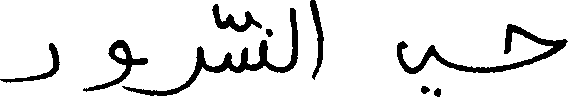ا: (307, 0, 322, 81)
ح: (504, 21, 566, 71)
ر: (129, 43, 203, 94), (0, 41, 58, 84)
س: (216, 42, 255, 73)
ل: (287, 6, 297, 71)
ن: (257, 28, 277, 72)
و: (83, 38, 132, 92)
ي: (395, 38, 447, 96)
